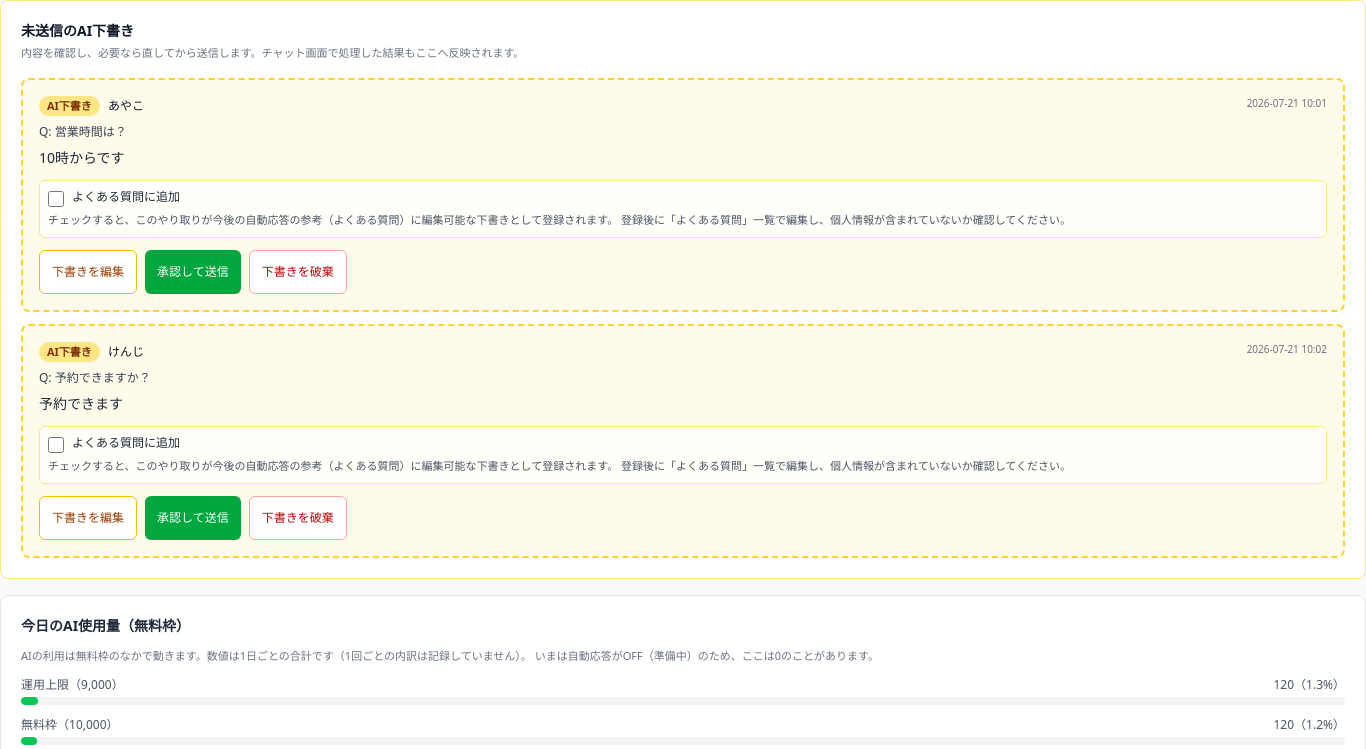
/knowledge page — AI ログ・コストタブ › 中央でFAQ追加をON送信しても次の下書きは既定OFFに戻る
The width and height of the screenshot is (1366, 749).
Expected: the checkbox labelled "よくある質問に追加" below "予約できますか？" is not checked, [48,437,64,453]
Click the checkbox labelled "よくある質問に追加" below "10時からです" at (56, 199), box [48,191,64,207]
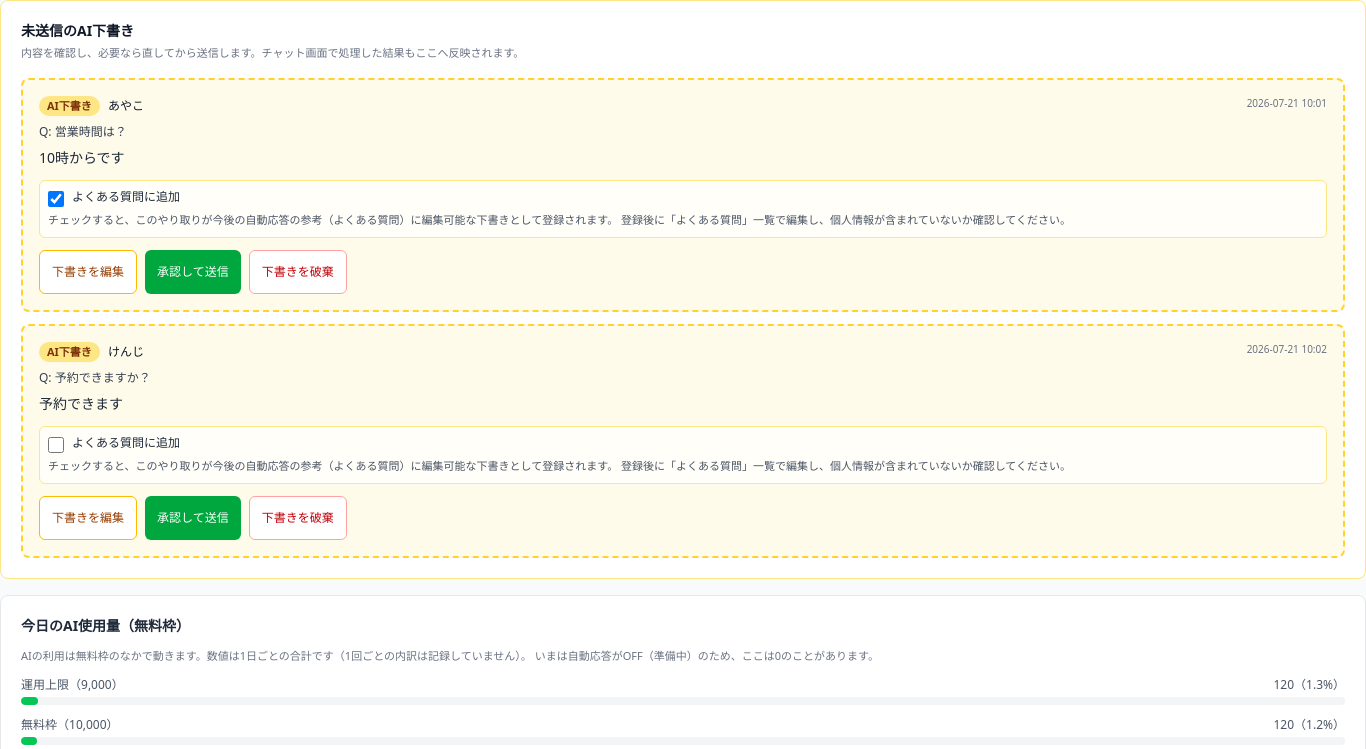
Click the button "承認して送信" below "10時からです" at (193, 272), box [145,250,241,294]
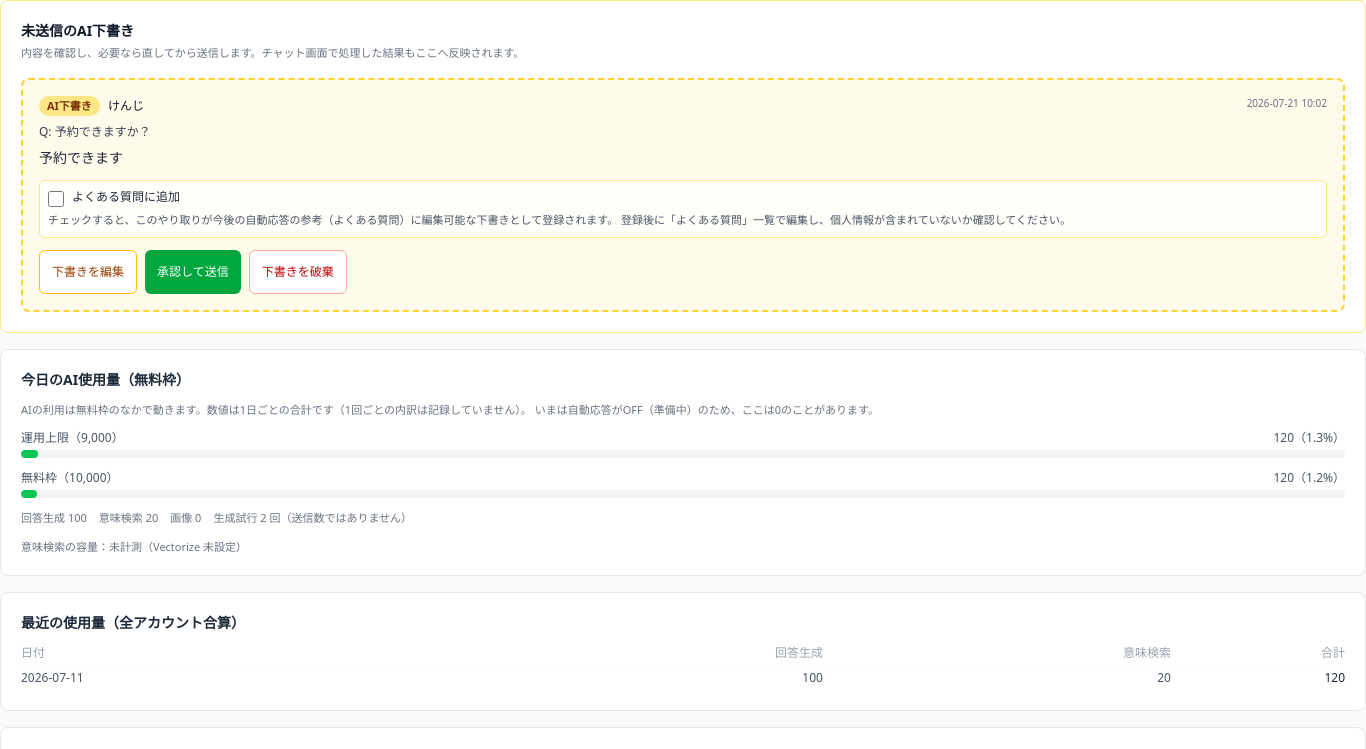
Expected: the checkbox labelled "よくある質問に追加" is not checked, [48,191,64,207]
Now the element with test id "central-ai-draft-draft-1" is gone
